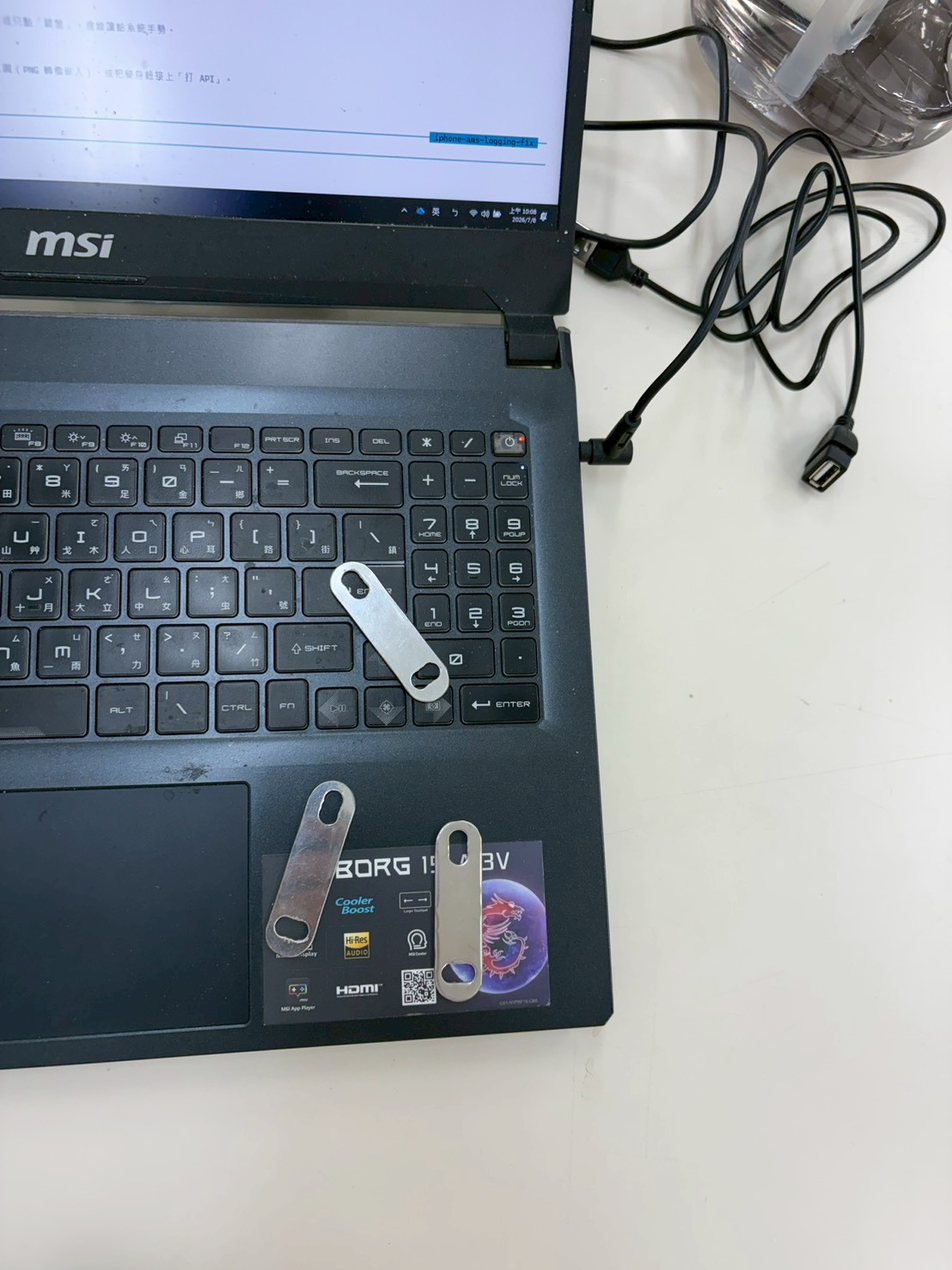Fe: (328, 543, 453, 701), (252, 776, 361, 956), (419, 815, 515, 1001)
